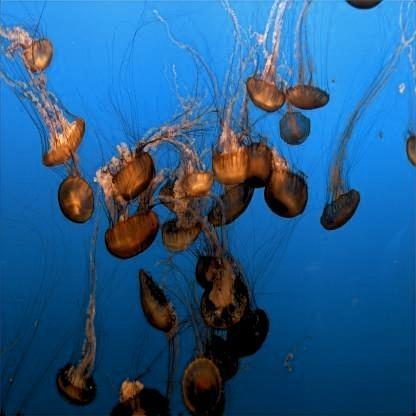Dressed: (206, 24, 251, 187), (56, 270, 100, 406), (18, 74, 84, 164), (178, 286, 222, 412), (101, 177, 159, 260), (139, 270, 182, 378), (288, 7, 330, 107), (324, 114, 360, 230), (160, 129, 215, 198), (247, 16, 285, 112), (109, 144, 158, 201), (204, 178, 257, 226), (203, 274, 250, 328), (1, 23, 53, 71), (263, 166, 308, 216), (227, 305, 271, 354), (201, 332, 240, 384), (58, 168, 94, 222), (112, 380, 165, 414), (244, 141, 280, 191), (196, 248, 232, 289), (160, 218, 202, 253), (159, 176, 198, 213), (282, 105, 314, 144), (406, 131, 416, 166)
